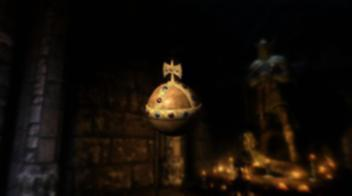Grenade: (146, 60, 203, 139)
